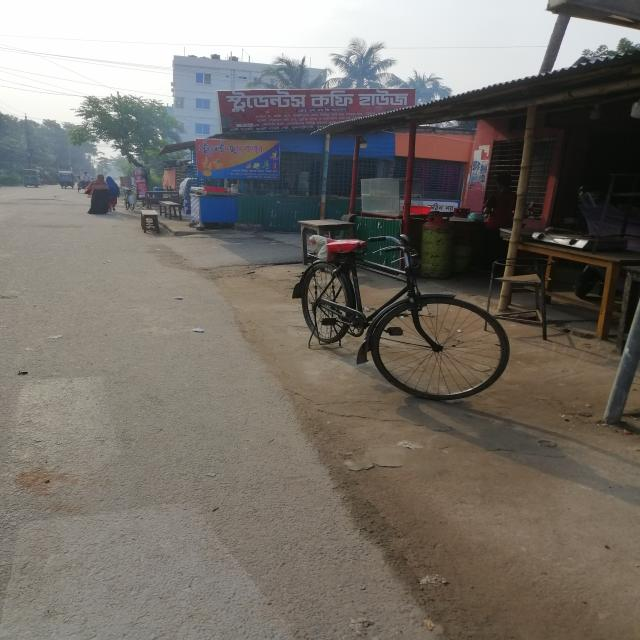Bicycle: (268, 234, 517, 403)
